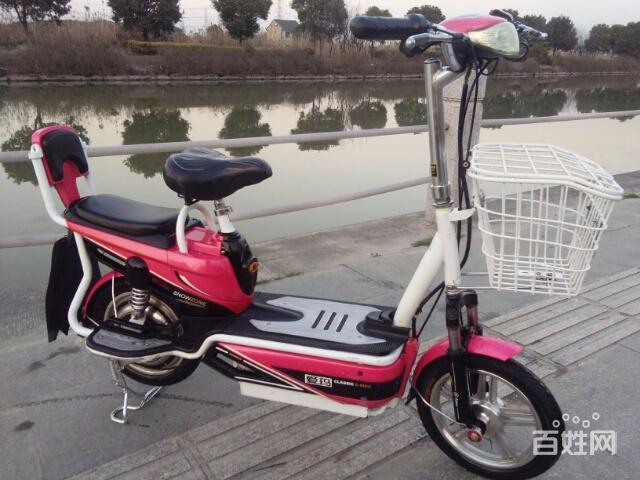电动车: (12, 9, 624, 480)
